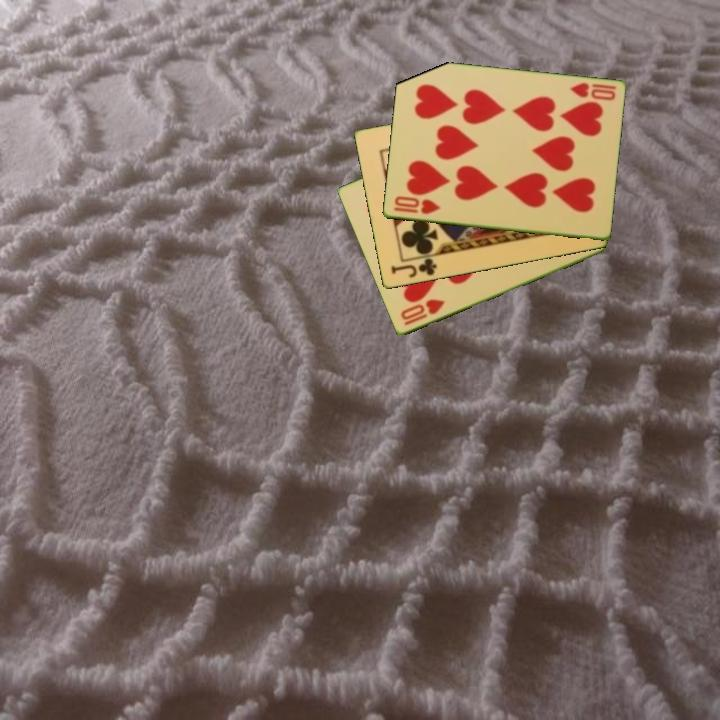10h: (397, 296, 448, 329), (390, 193, 443, 217), (566, 79, 619, 103)
Jc: (387, 255, 439, 281)
